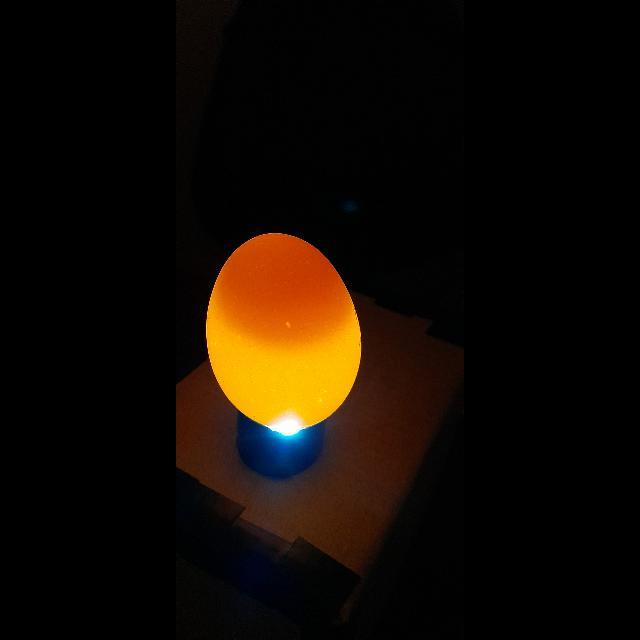Fertile: (207, 229, 369, 433)
